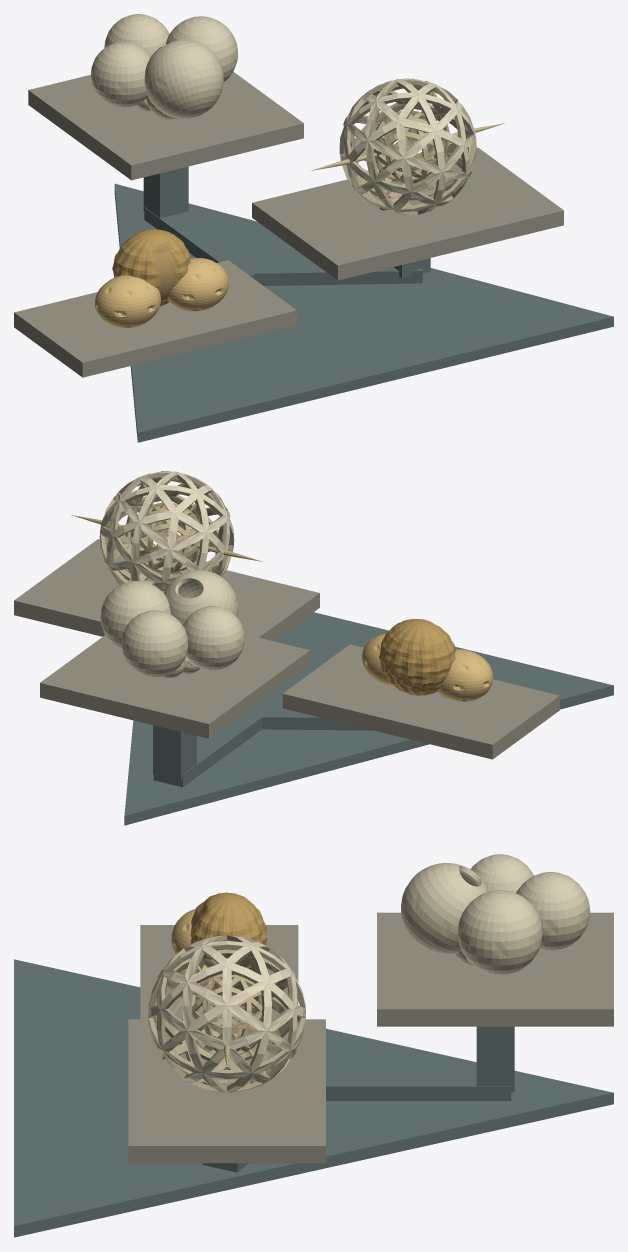
3 views of the same model, one above another, from view 1: azimuth 30°, elevation 25°; view 2: azimuth 150°, elevation 25°; view 3: azimuth 270°, elevation 25° (orthographic). The views are drawn at different scales.
Parts seen in each view (by area): view 1: SCENE_ONLY__TriangularBranchingRack, radiolarian__WholeOuterPerforatedSphericalTest, foraminifer__CompleteLastChamberWithTrueRimmedAperture, pollen__WholeRugulateCorpusWithClosedDistalLeptoma, foraminifer__CompleteFinalWhorlChamber_1, pollen__WholeLeftFoveolateSaccus, pollen__WholeRightFoveolateSaccus, foraminifer__CompleteFinalWhorlChamber_3, radiolarian__WholeInnerPerforatedSphericalTest, foraminifer__CompleteFinalWhorlChamber_2; view 2: SCENE_ONLY__TriangularBranchingRack, radiolarian__WholeOuterPerforatedSphericalTest, pollen__WholeRugulateCorpusWithClosedDistalLeptoma, foraminifer__CompleteFinalWhorlChamber_2, foraminifer__CompleteFinalWhorlChamber_1, foraminifer__CompleteLastChamberWithTrueRimmedAperture, foraminifer__CompleteFinalWhorlChamber_3, pollen__WholeLeftFoveolateSaccus, radiolarian__WholeInnerPerforatedSphericalTest, pollen__WholeRightFoveolateSaccus; view 3: SCENE_ONLY__TriangularBranchingRack, radiolarian__WholeOuterPerforatedSphericalTest, foraminifer__CompleteFinalWhorlChamber_3, foraminifer__CompleteLastChamberWithTrueRimmedAperture, foraminifer__CompleteFinalWhorlChamber_2, pollen__WholeRugulateCorpusWithClosedDistalLeptoma, radiolarian__WholeInnerPerforatedSphericalTest, foraminifer__CompleteFinalWhorlChamber_1, pollen__WholeLeftFoveolateSaccus.
Part boxes in pixels (x1,y1,x2,y2): SCENE_ONLY__TriangularBranchingRack: (14,72,613,442); radiolarian__WholeOuterPerforatedSphericalTest: (339,78,476,215); foraminifer__CompleteLastChamberWithTrueRimmedAperture: (144,39,223,118); pollen__WholeRugulateCorpusWithClosedDistalLeptoma: (112,229,190,306); foraminifer__CompleteFinalWhorlChamber_1: (91,42,150,107); pollen__WholeLeftFoveolateSaccus: (95,275,160,328); pollen__WholeRightFoveolateSaccus: (168,258,228,311); foraminifer__CompleteFinalWhorlChamber_3: (166,16,237,81); radiolarian__WholeInnerPerforatedSphericalTest: (374,110,444,183); foraminifer__CompleteFinalWhorlChamber_2: (104,14,169,56); SCENE_ONLY__TriangularBranchingRack: (14,539,613,825); radiolarian__WholeOuterPerforatedSphericalTest: (99,471,234,590); pollen__WholeRugulateCorpusWithClosedDistalLeptoma: (379,619,455,695); foraminifer__CompleteFinalWhorlChamber_2: (121,610,188,677); foraminifer__CompleteFinalWhorlChamber_1: (183,606,244,670); foraminifer__CompleteLastChamberWithTrueRimmedAperture: (164,570,238,624); foraminifer__CompleteFinalWhorlChamber_3: (100,581,170,649); pollen__WholeLeftFoveolateSaccus: (437,649,493,701); radiolarian__WholeInnerPerforatedSphericalTest: (130,502,200,574); pollen__WholeRightFoveolateSaccus: (362,633,393,685); SCENE_ONLY__TriangularBranchingRack: (14,912,613,1237); radiolarian__WholeOuterPerforatedSphericalTest: (148,935,305,1093); foraminifer__CompleteFinalWhorlChamber_3: (457,890,542,975); foraminifer__CompleteLastChamberWithTrueRimmedAperture: (401,863,488,954); foraminifer__CompleteFinalWhorlChamber_2: (516,872,590,950); pollen__WholeRugulateCorpusWithClosedDistalLeptoma: (190,892,266,970); radiolarian__WholeInnerPerforatedSphericalTest: (192,973,262,1054); foraminifer__CompleteFinalWhorlChamber_1: (470,854,533,893); pollen__WholeLeftFoveolateSaccus: (171,909,195,954).
Bounding box in the file's own units: 0.4 × 0.1642 × 0.38.
